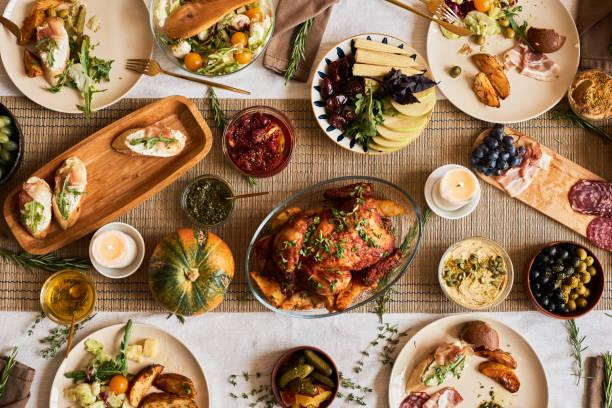Braised Crucian Carp: (247, 177, 417, 318), (426, 0, 577, 124), (2, 0, 152, 113), (310, 32, 432, 154), (148, 0, 272, 79)
